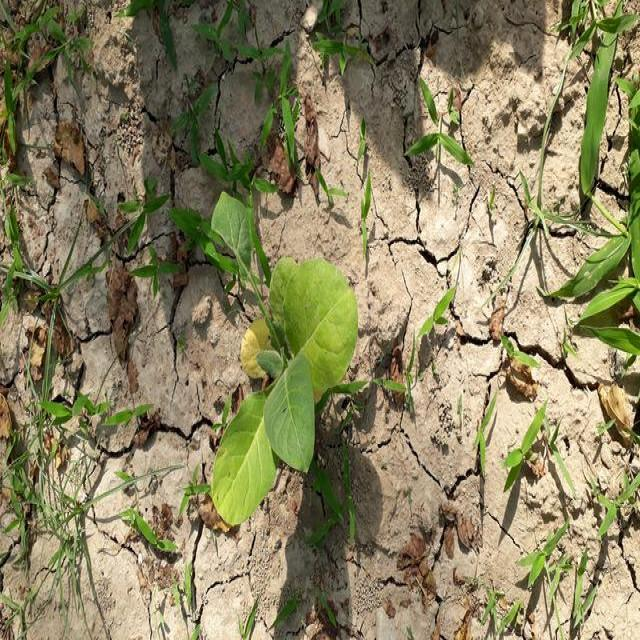crop: (201, 190, 362, 533)
